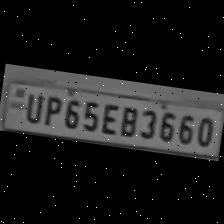0: (192, 111, 216, 146)
3: (136, 104, 160, 140)
5: (78, 96, 102, 132)
6: (155, 106, 179, 143), (60, 94, 82, 130), (174, 110, 196, 144)
B: (116, 103, 140, 138)
E: (98, 100, 120, 135)
P: (40, 92, 62, 127)
U: (21, 89, 45, 123)
